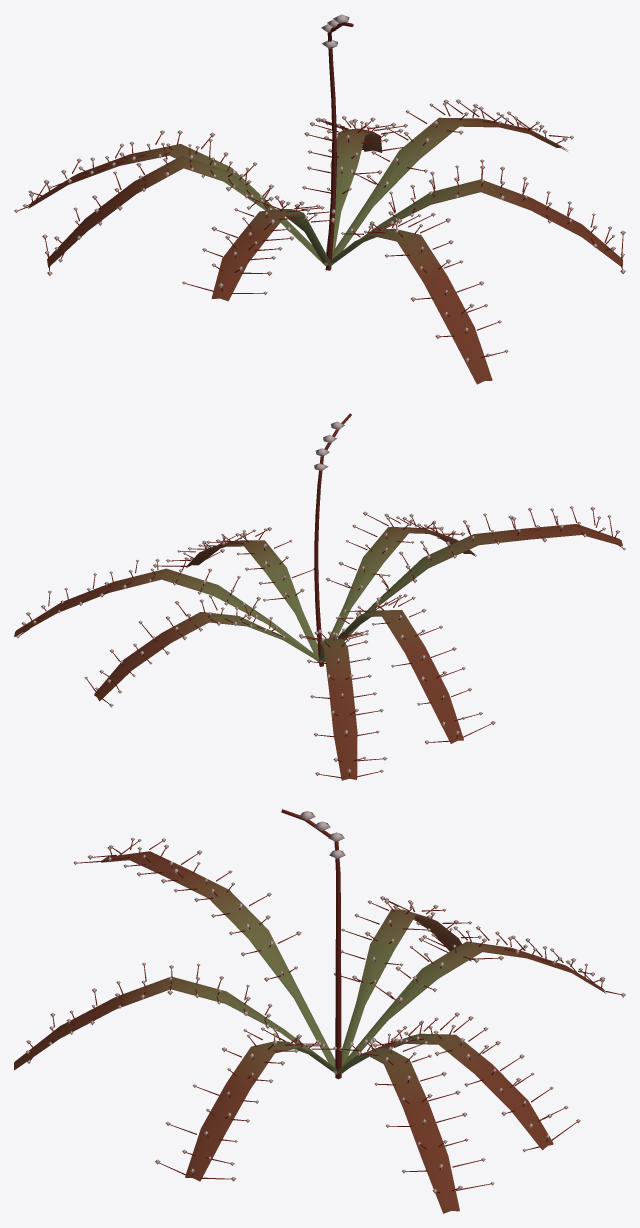
File: sundew_lo.glb
3 renders of one model, top to bottom at view 1: azimuth 30°, elevation 25°; view 2: azimuth 150°, elevation 25°; view 3: azimuth 270°, elevation 25°, orthographic. The views are drawn at different scales.
Parts seen in each view (by area): view 1: sundew; view 2: sundew; view 3: sundew.
Boxes of the visible parts, x1,y1,x2,y2 form: sundew: (14, 14, 625, 384); sundew: (14, 413, 625, 780); sundew: (14, 809, 625, 1213).
Size of the model in its own units: 3.5 by 1.66 by 3.46.
